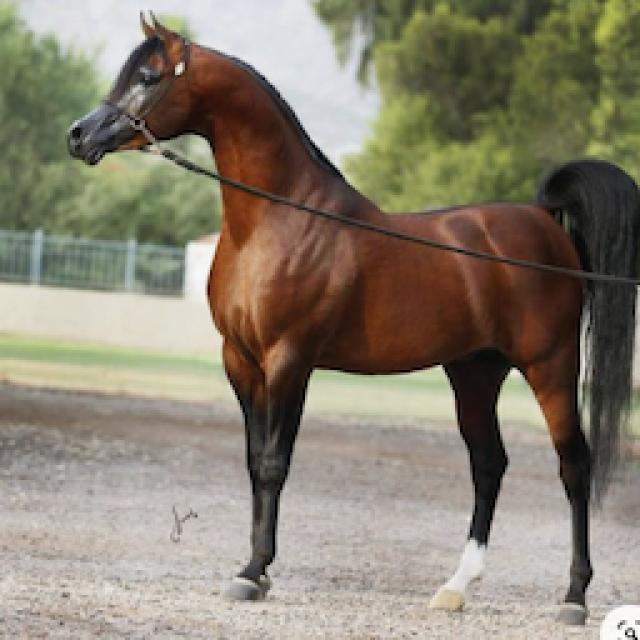Horse: (58, 5, 638, 630)
